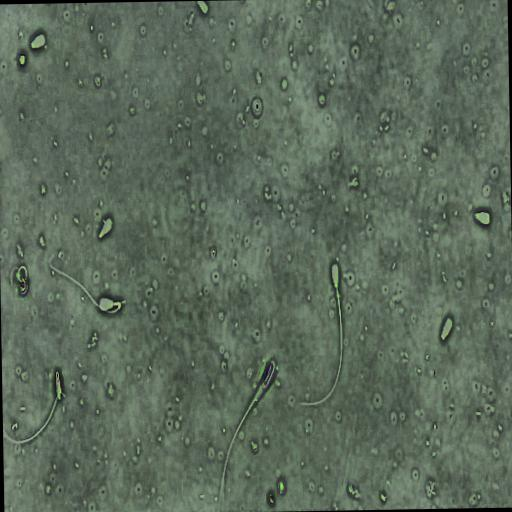dirt-particles: (267, 491, 277, 506), (18, 52, 26, 68)
folded-tail: (3, 371, 60, 443), (51, 266, 121, 314)
loose-head: (97, 214, 114, 241), (439, 315, 455, 343), (474, 208, 492, 229), (30, 31, 47, 51)
normal: (214, 350, 280, 511), (291, 250, 348, 414), (44, 251, 132, 321), (3, 371, 61, 444)
